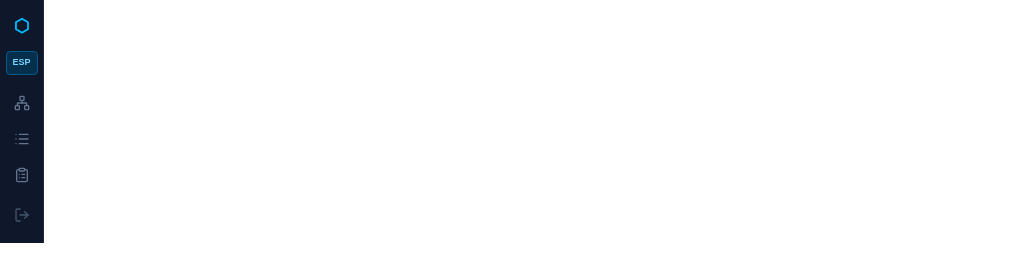
Test: closes popover on outside pointer down
Click the button titled "Rule system: ESP": (22, 63) left=6, top=51, right=38, bottom=75
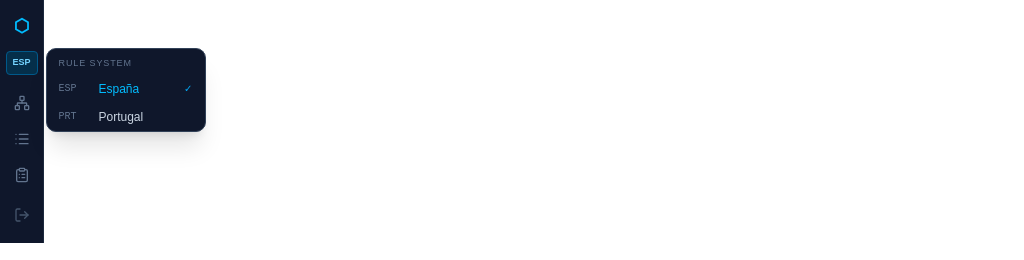
Expected: the text "España" is shown, left=98, top=80, right=139, bottom=96
Press the mouse on the element showing "⬡ ESP Rule system ESP España ✓ PRT Portugal": (512, 121) left=0, top=0, right=1023, bottom=243
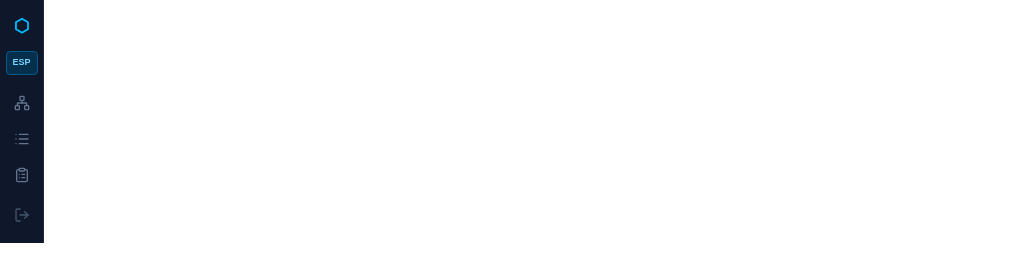
Expected: the button "España" is gone
